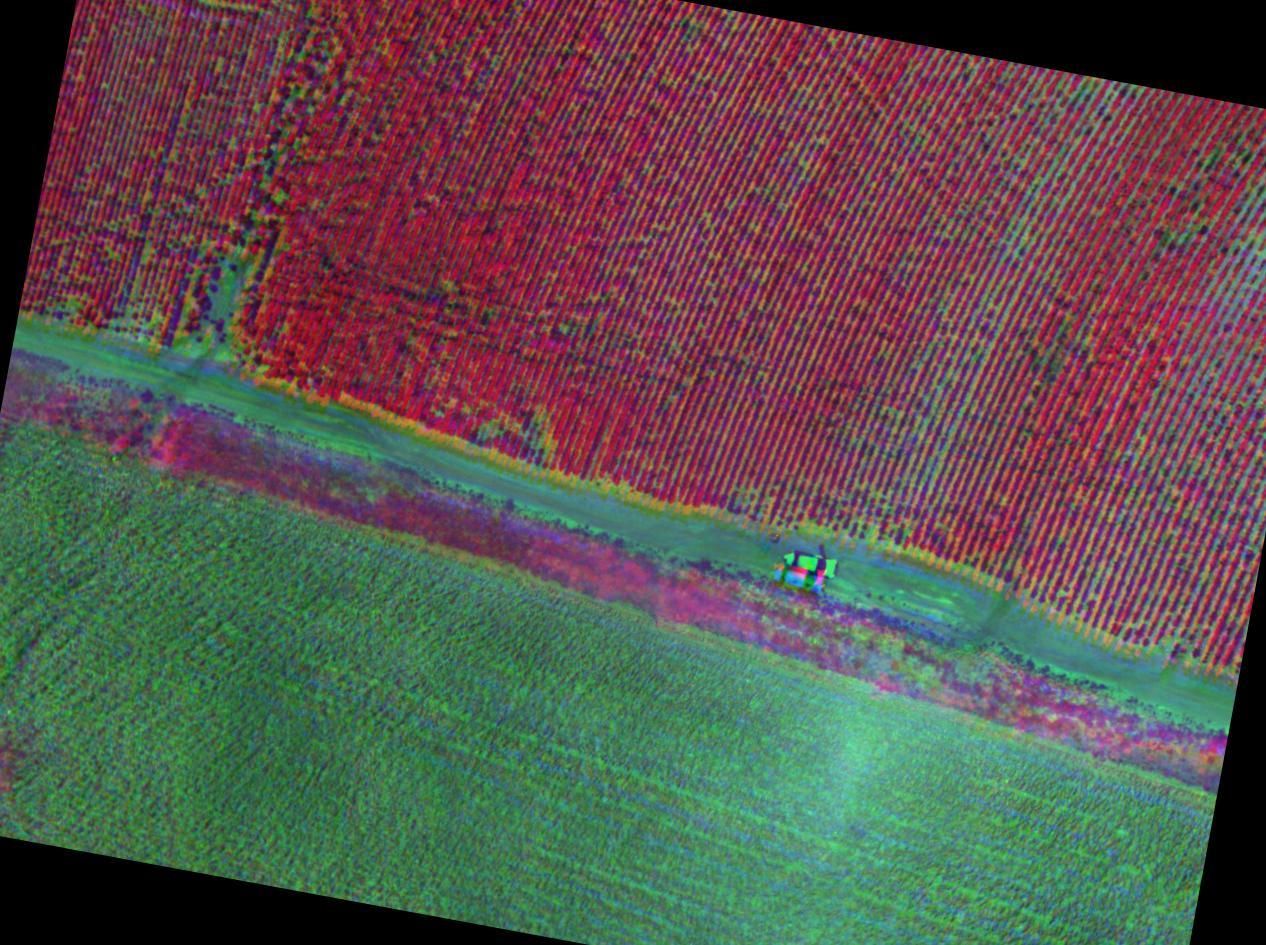dc: (958, 155, 1049, 258), (876, 400, 951, 495), (188, 243, 249, 359), (476, 408, 554, 466)
